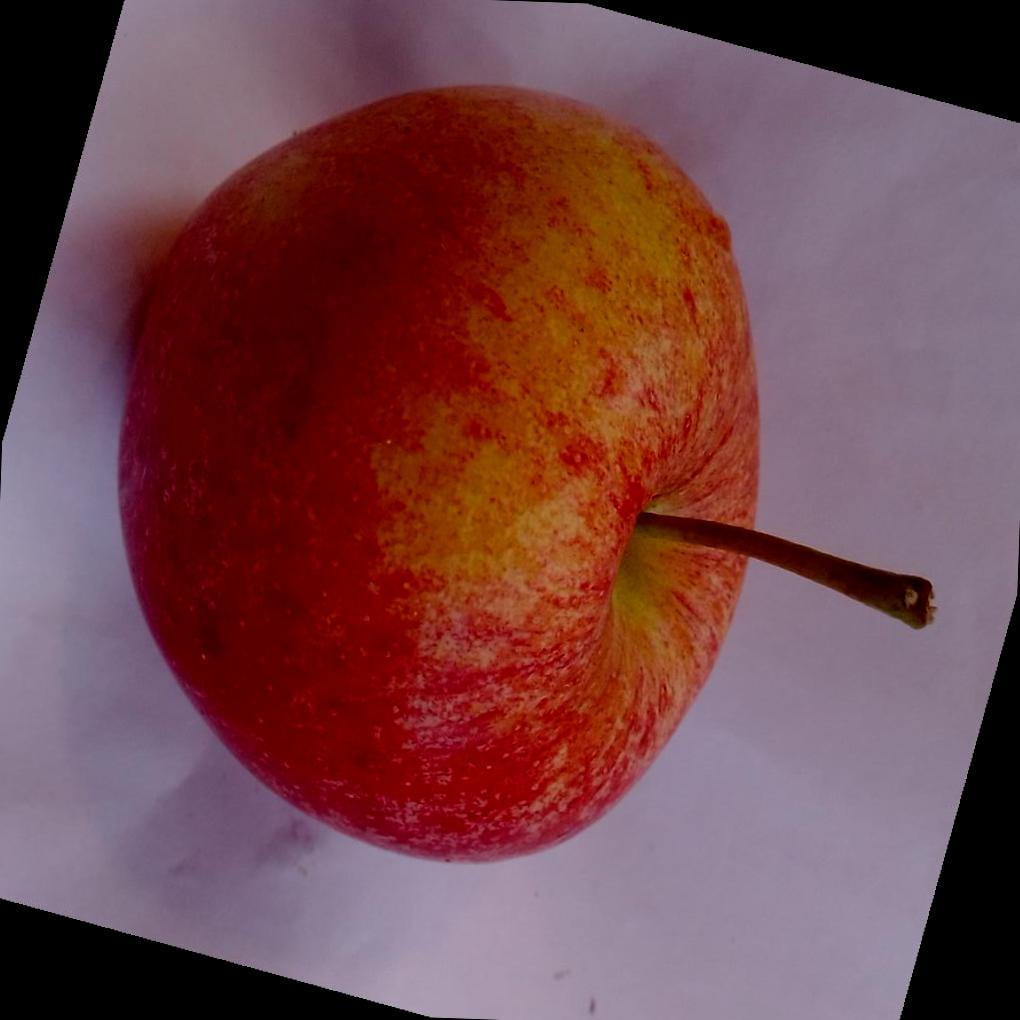FreshGuava: (119, 82, 941, 867)
